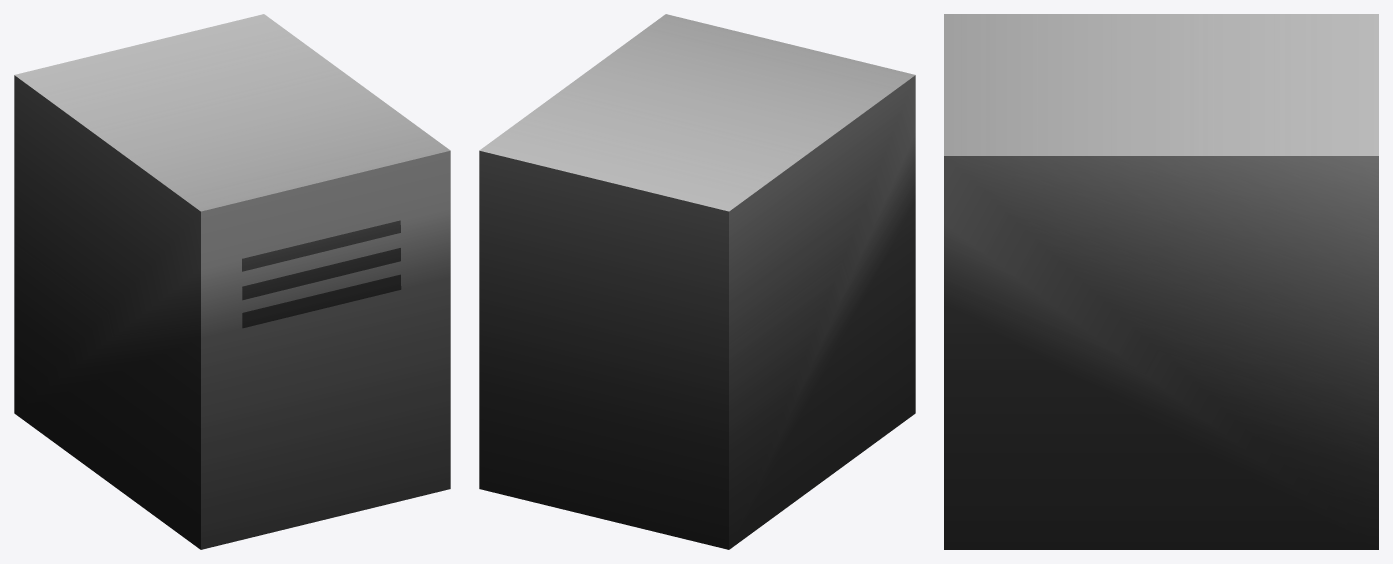
The model's file is Radio_Box.fbx.
3 views of the same model, side by side, from view 1: azimuth 30°, elevation 25°; view 2: azimuth 150°, elevation 25°; view 3: azimuth 270°, elevation 25° (orthographic). The views are drawn at different scales.
Visible parts, largest first — view 1: RadioBox; view 2: RadioBox; view 3: RadioBox.
Part boxes in pixels (x1,y1,x2,y2): RadioBox: [14, 14, 450, 549]; RadioBox: [479, 14, 915, 549]; RadioBox: [944, 14, 1378, 549].
Bounding box in the file's own units: 105 × 135 × 135.
Materials: 1 (1 with a texture image).
